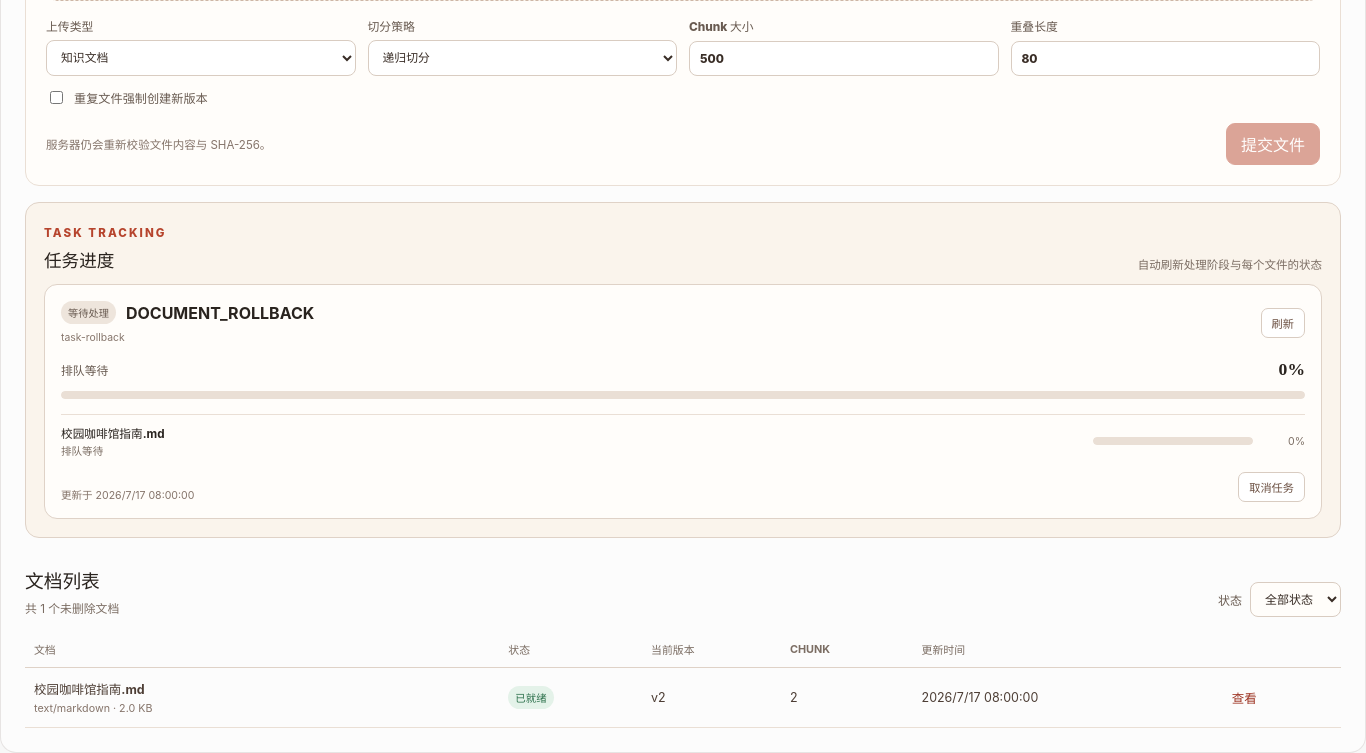
KnowledgeDocumentWorkspace › keeps the selected version visible and reports a rejected rollback
(page scrolled)
Click the button "查看". click: (1244,698)
box: 1226,688 -> 1263,708
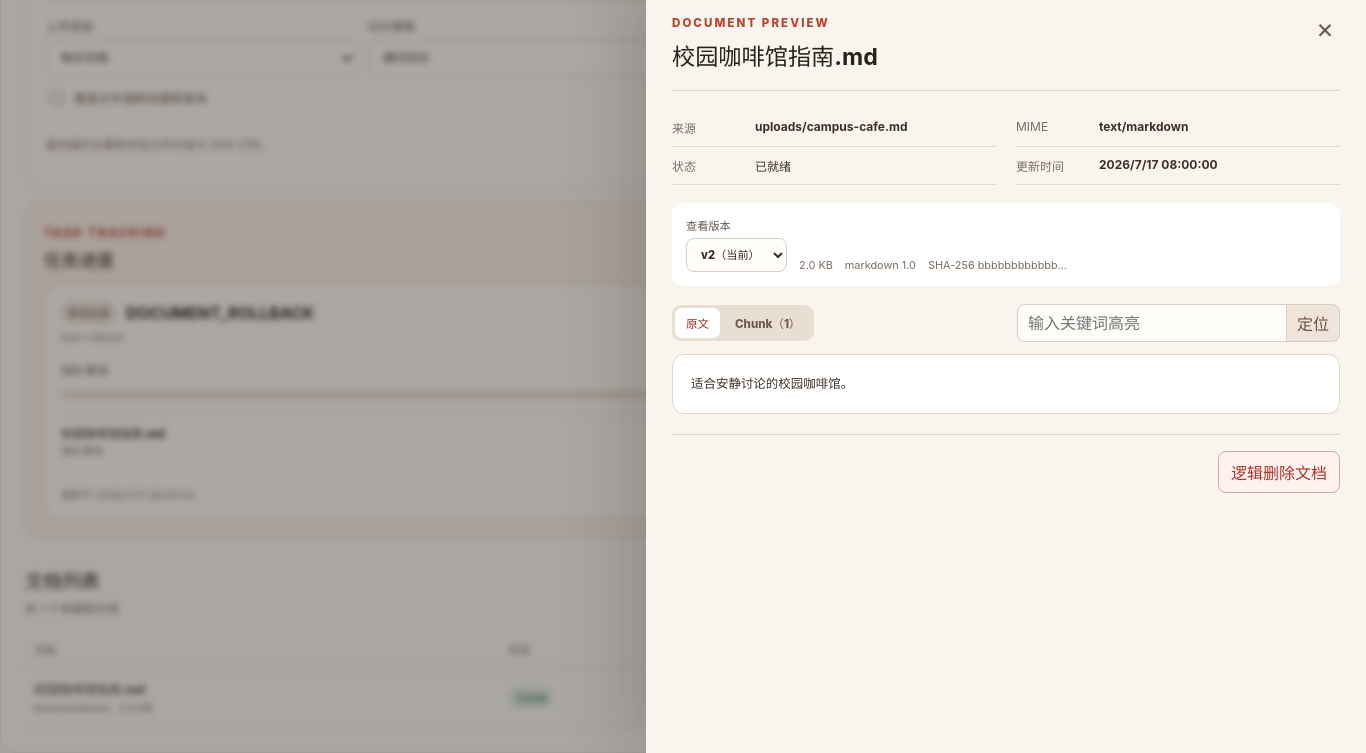
Select "v1" in the dropdown labelled "查看版本". click: (736,255)
box: 686,238 -> 787,272
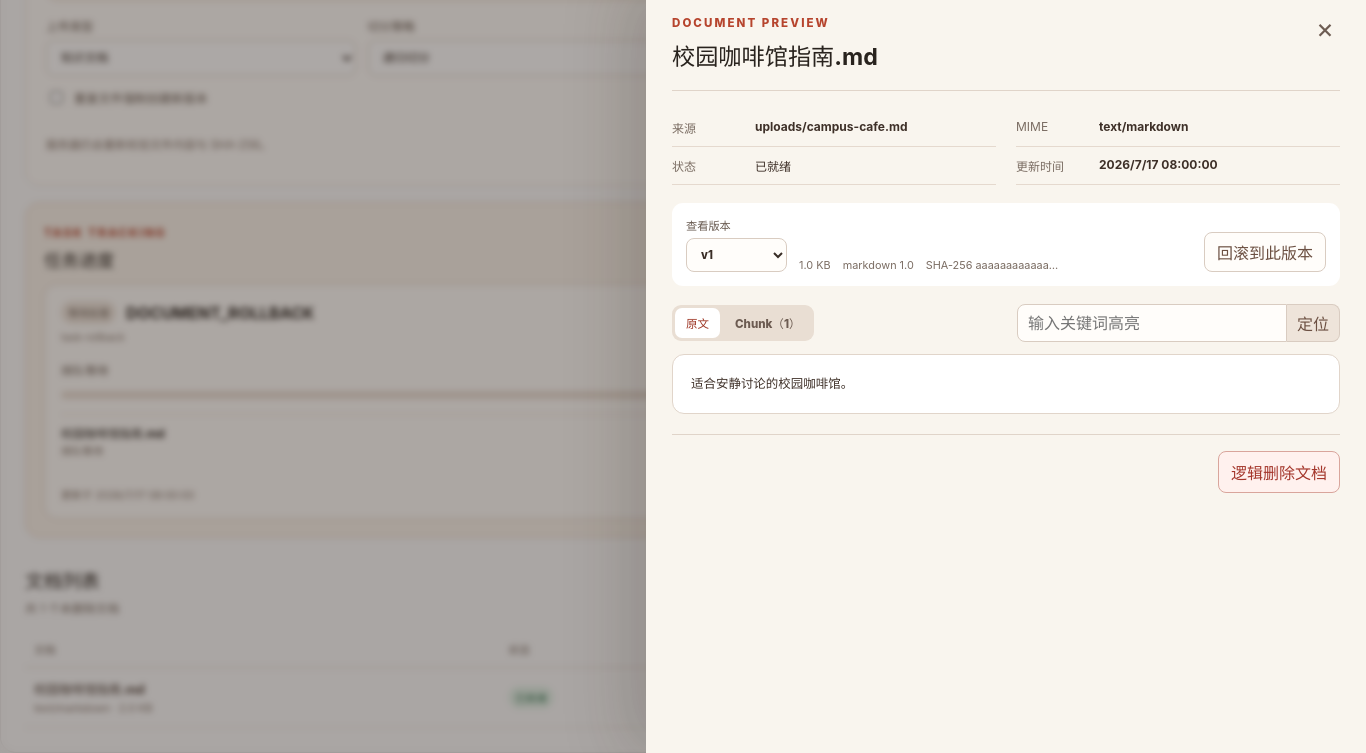
Click the button "回滚到此版本". click: (1265,252)
box: 1204,232 -> 1326,272
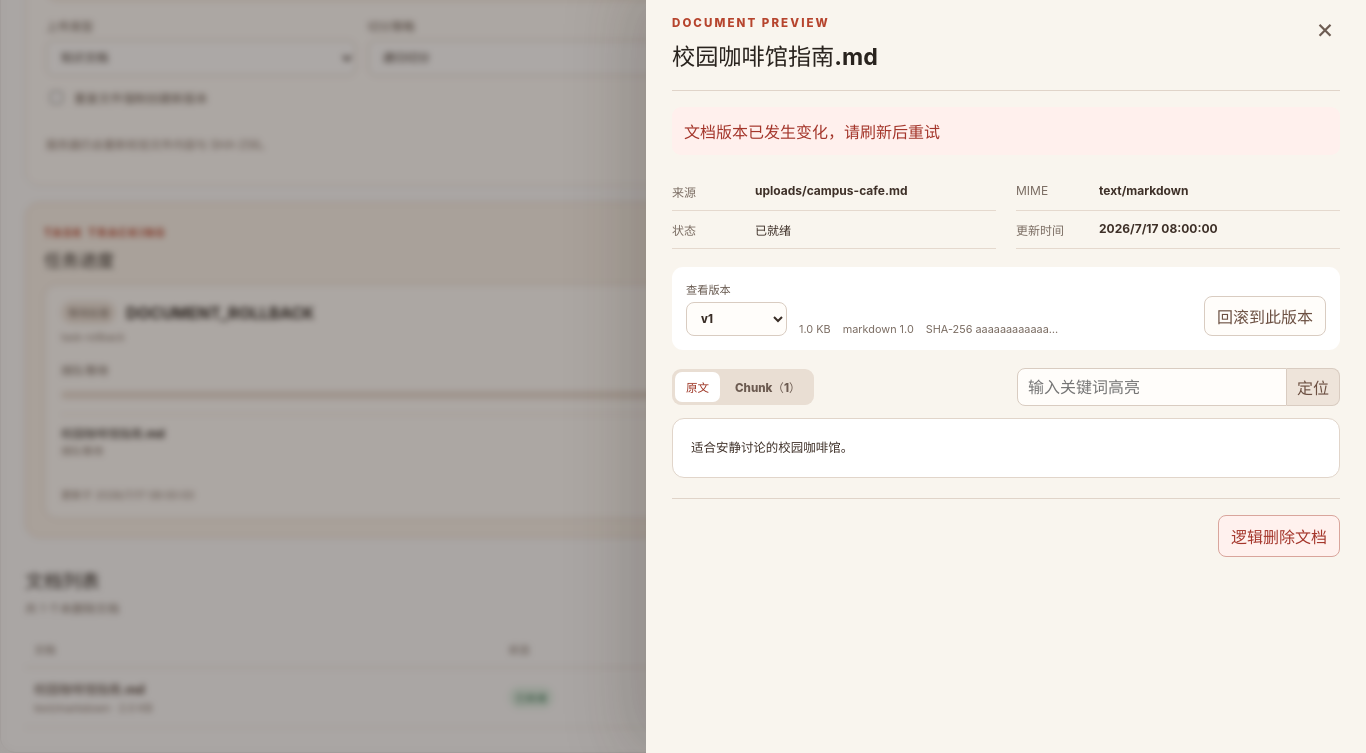
Now the message "文档版本已发生变化，请刷新后重试" is shown, box 672,107 -> 1340,155
